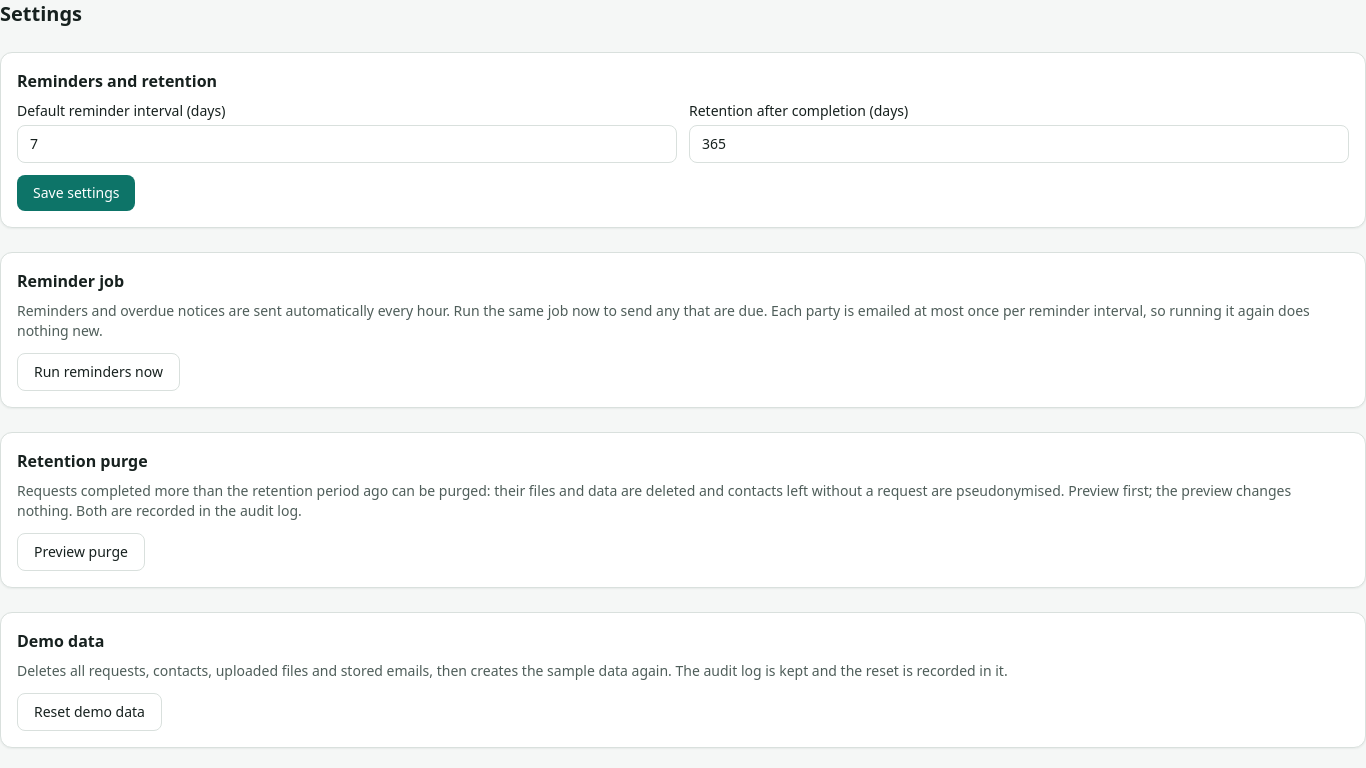
Reset demo data › asks for confirmation, then resets
Click the button "Reset demo data" at (90, 712), box [17,693,162,731]
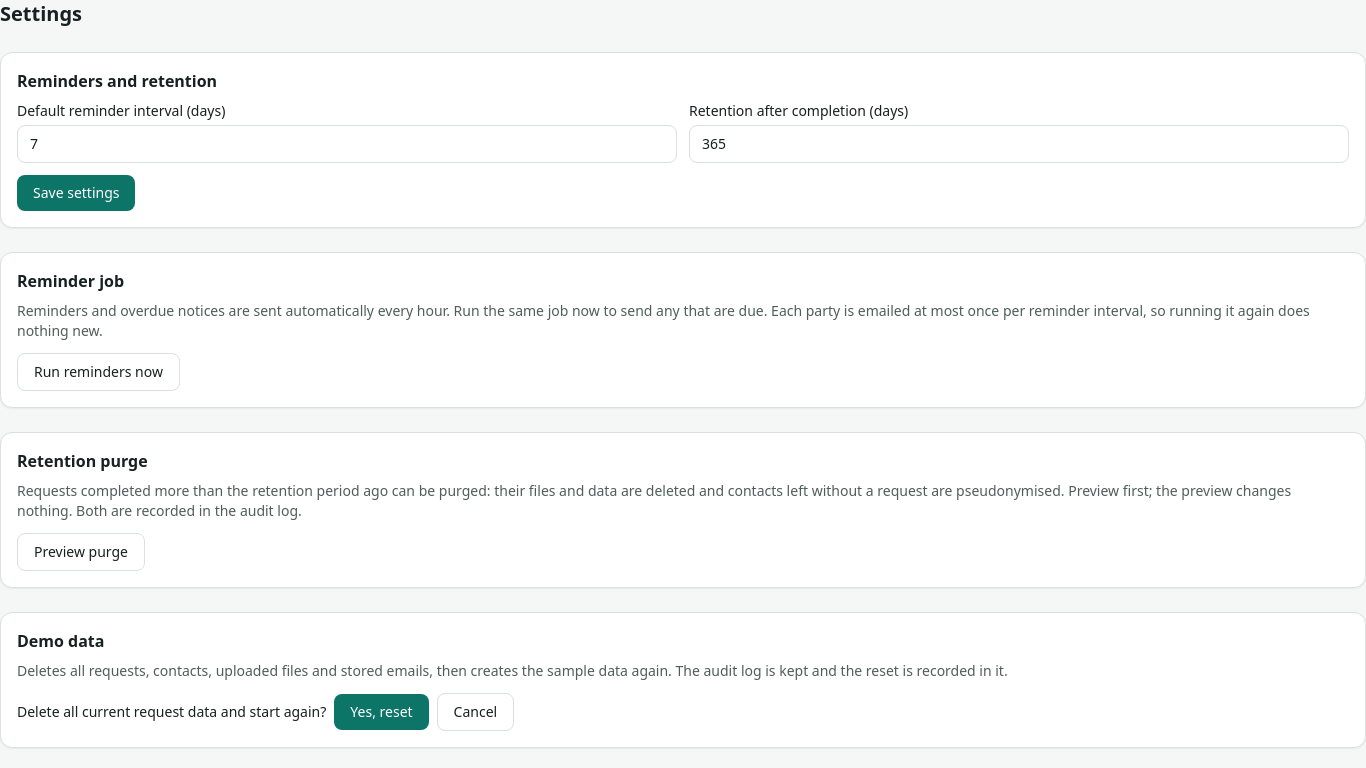
Click the button "Yes, reset" at (381, 712), box [334,694,429,730]
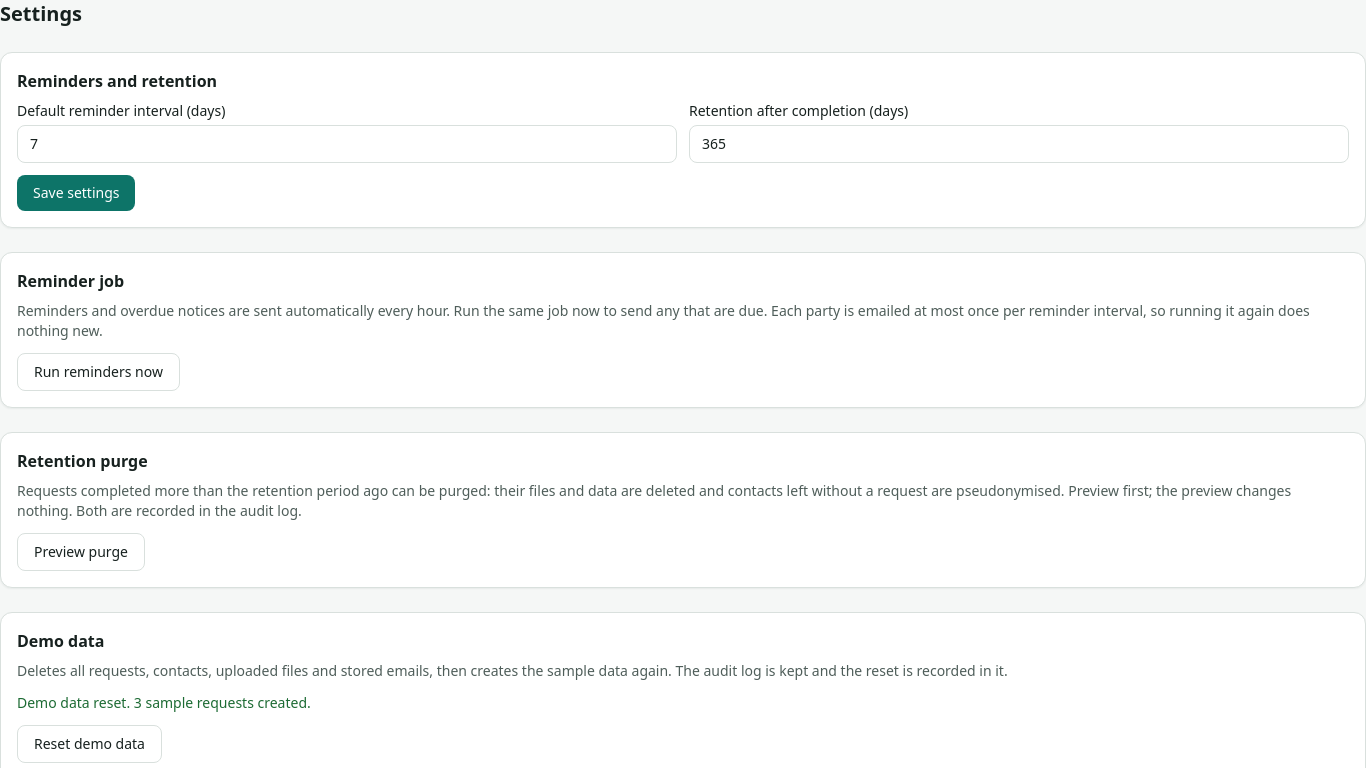
Now the message reads "Demo data reset. 3 sample requests created.", box [17,693,311,712]
